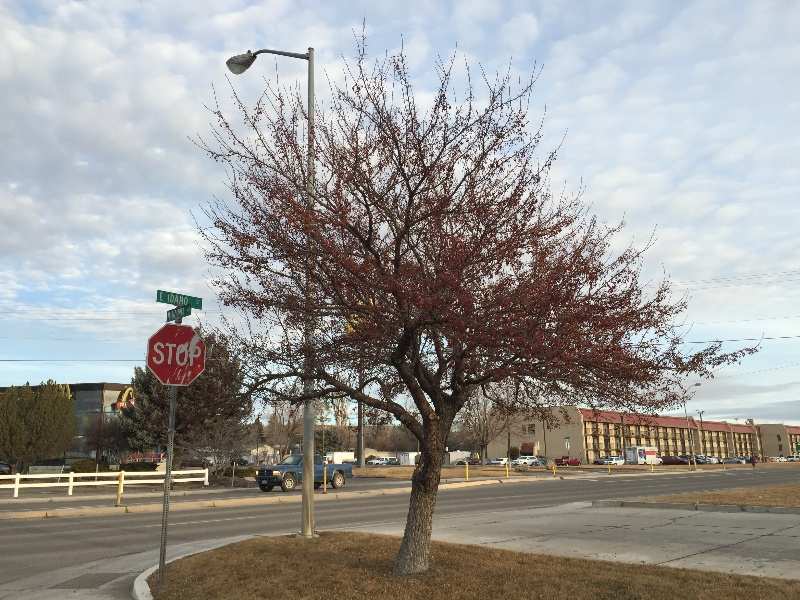stop sign: (143, 320, 206, 390)
